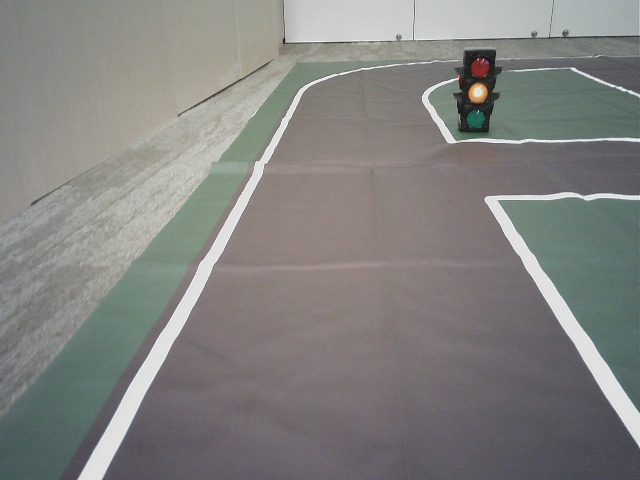yellow: (462, 53, 488, 129)
